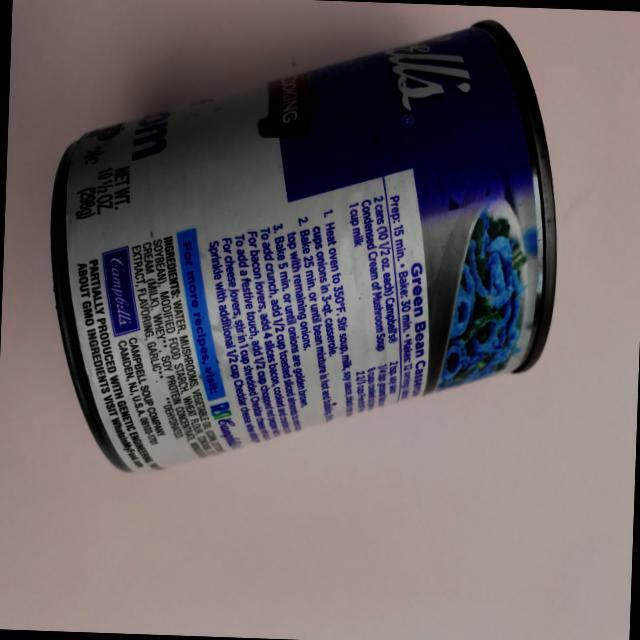metal: (23, 0, 575, 549)
